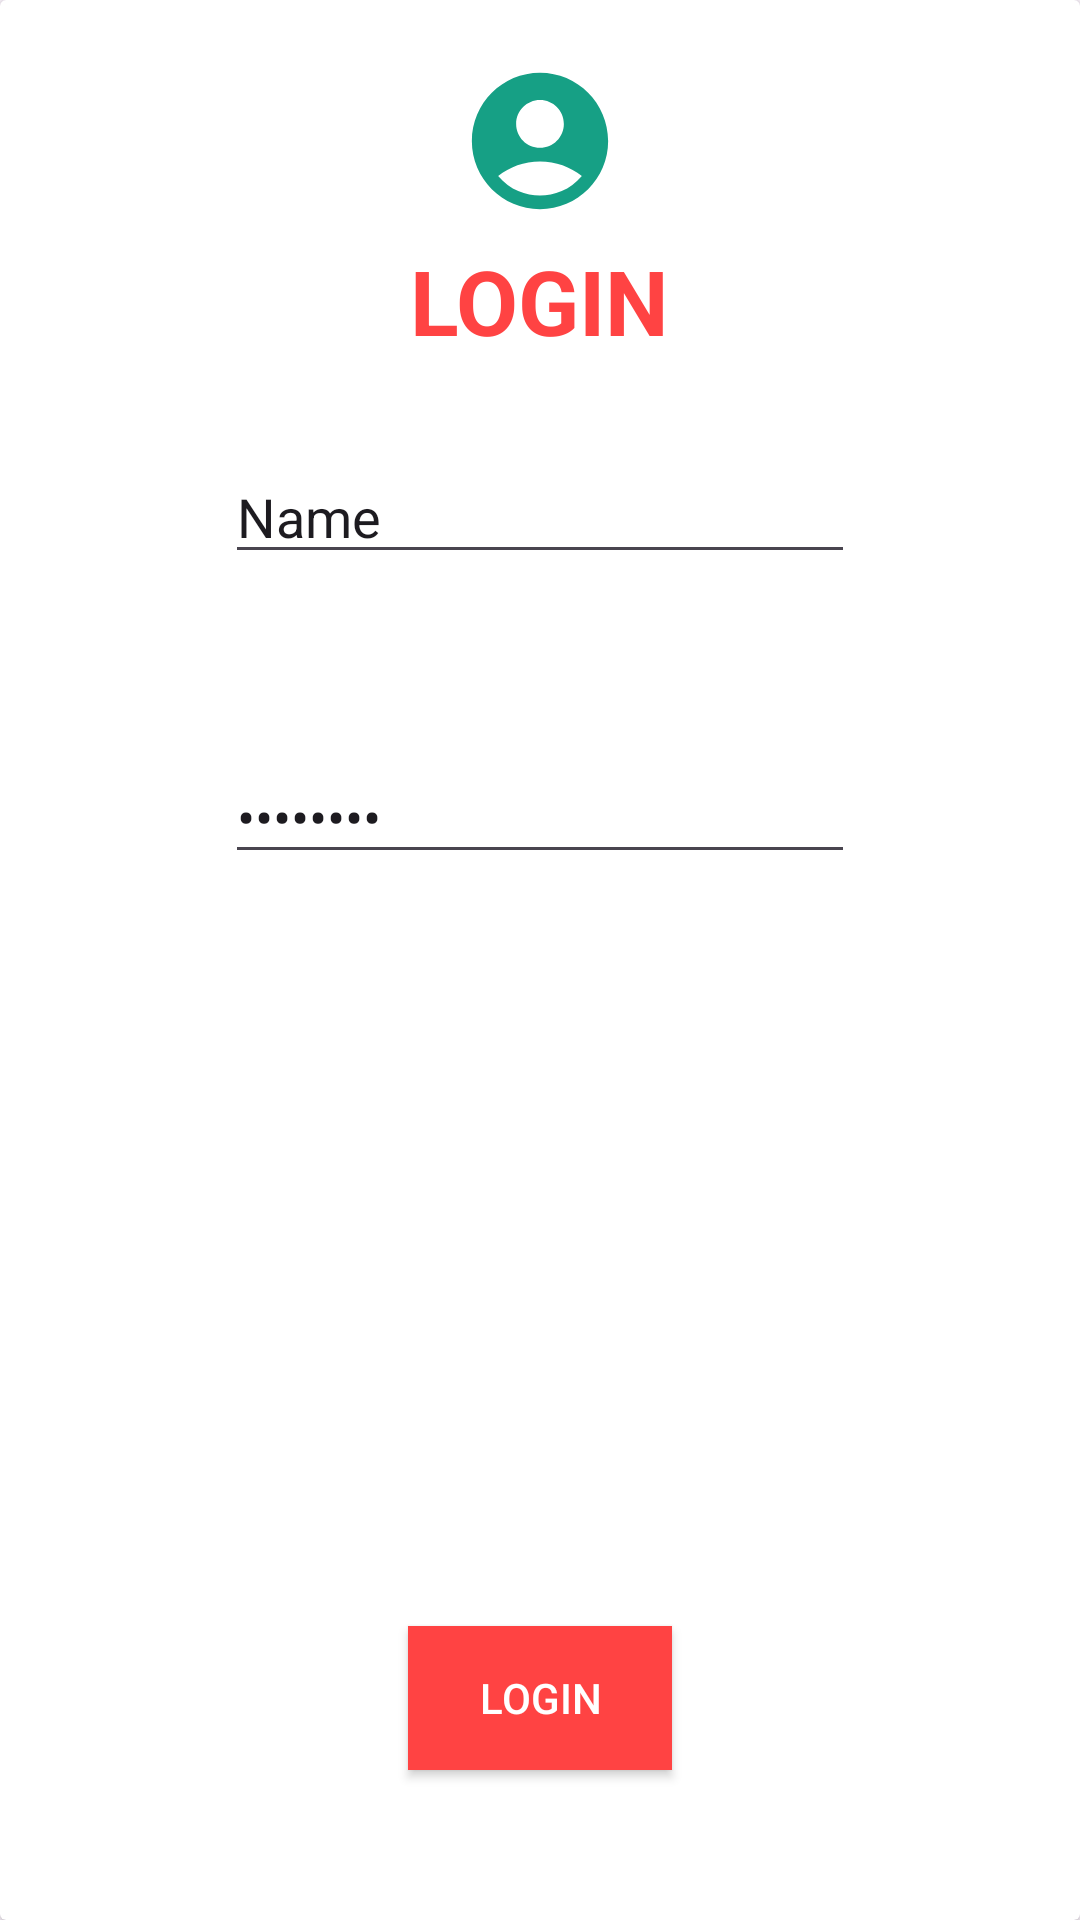

Icon click points for this 1080px x 1920px phone screenshot, format [x,y]:
user: [540,141]
